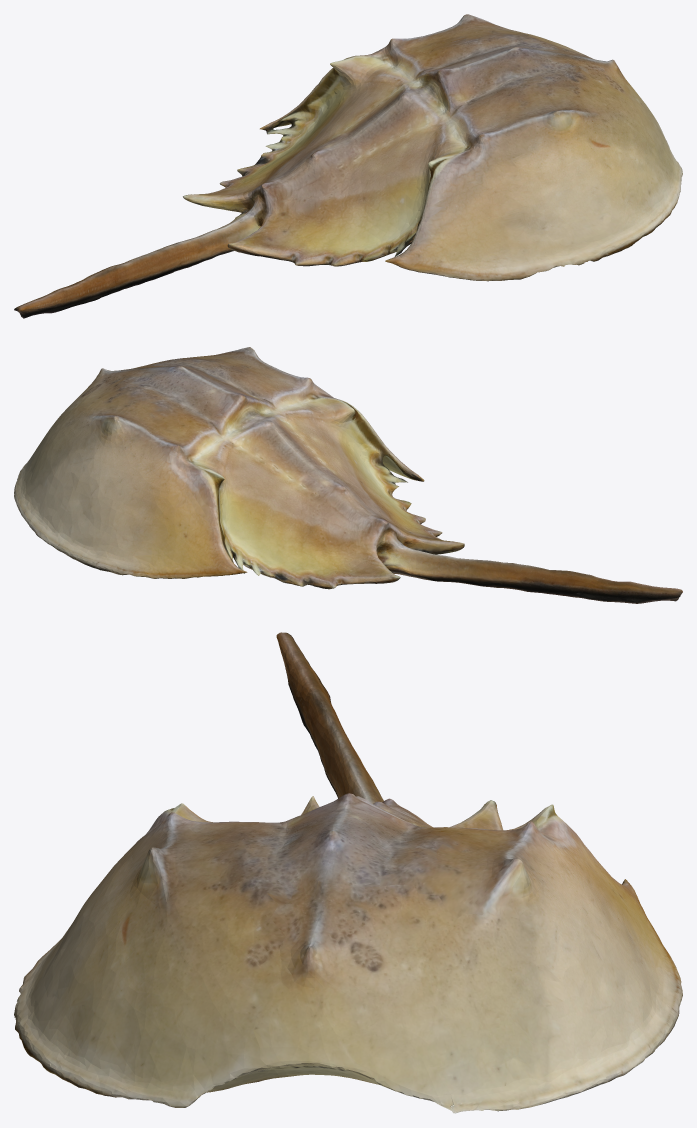
File: horsehoecrab.fbx
3 views of the same model, one above another, from view 1: azimuth 30°, elevation 25°; view 2: azimuth 150°, elevation 25°; view 3: azimuth 270°, elevation 25° (orthographic). The views are drawn at different scales.
Visible parts, largest first — view 1: PRI_Limulus; view 2: PRI_Limulus; view 3: PRI_Limulus.
Part boxes in pixels (x1,y1,x2,y2): PRI_Limulus: [14, 14, 682, 318]; PRI_Limulus: [14, 347, 682, 603]; PRI_Limulus: [14, 632, 682, 1113].
Bounding box in the file's own units: 443 × 172 × 777.
